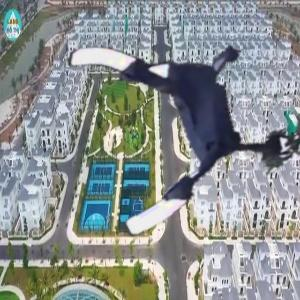drone: (67, 5, 281, 219)
